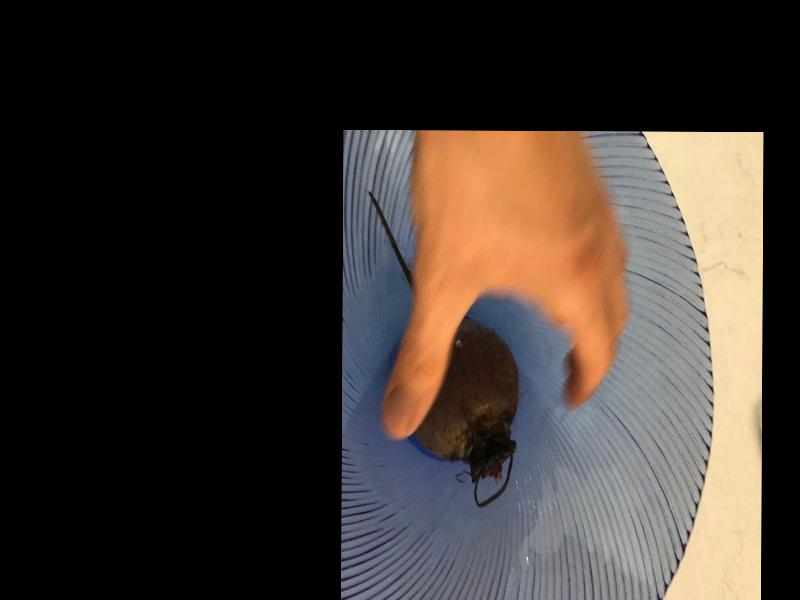Beet: (367, 192, 520, 507)
